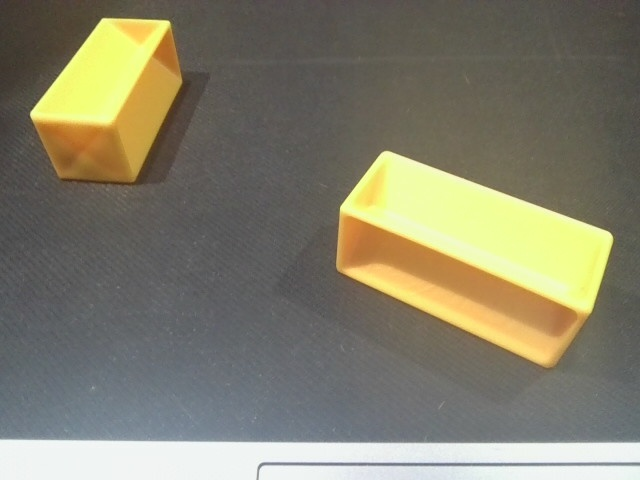YellowSample: (335, 148, 617, 376), (29, 14, 188, 187)
